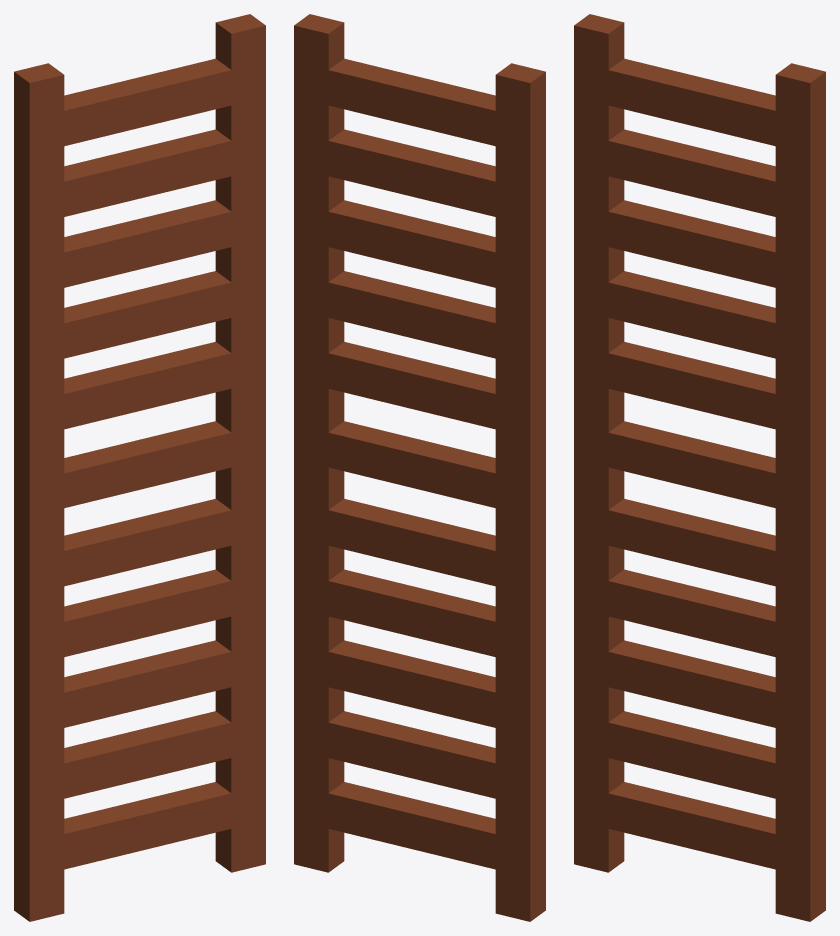
The model's file is Ladder.fbx.
The picture shows the model from 3 angles, left to right: view 1: azimuth 30°, elevation 25°; view 2: azimuth 150°, elevation 25°; view 3: azimuth 330°, elevation 25°; orthographic projection.
Parts seen in each view (by area): view 1: Cube; view 2: Cube; view 3: Cube.
Boxes of the visible parts, <box> form: Cube: <box>14,14,265,921</box>; Cube: <box>294,14,545,921</box>; Cube: <box>574,14,825,921</box>.
Size of the model in its own units: 100 by 339 by 11.54.
1 material, 1 textured.
